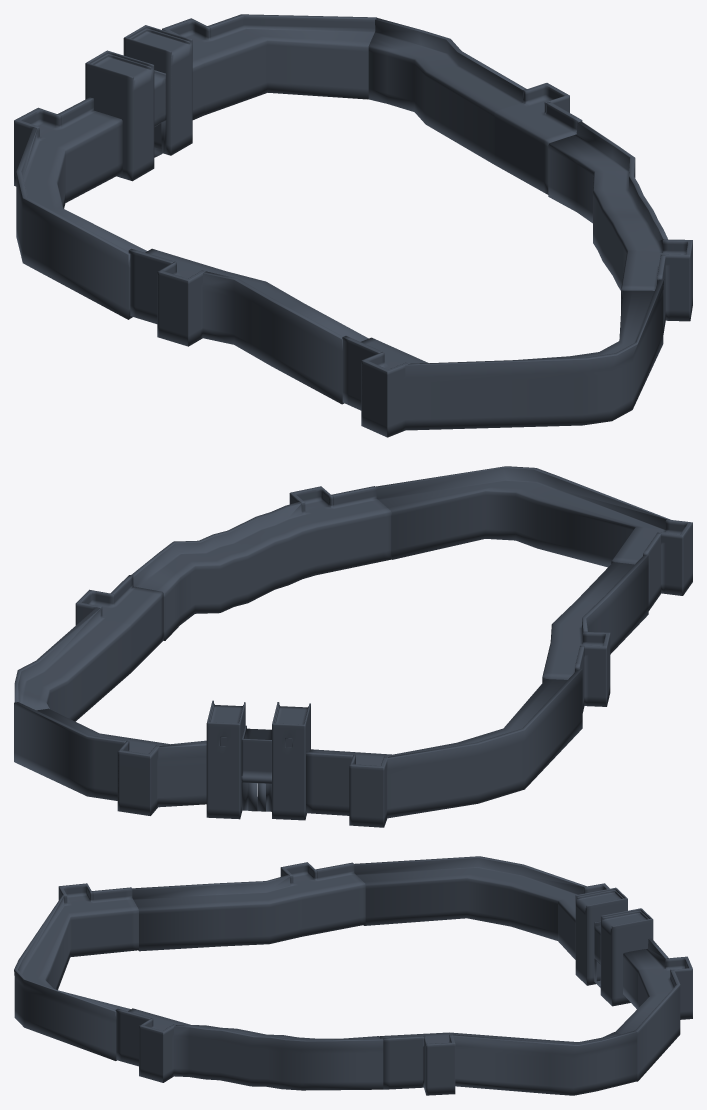
Rendered from wall.obj.
3 views of the same model, one above another, from view 1: azimuth 30°, elevation 25°; view 2: azimuth 150°, elevation 25°; view 3: azimuth 270°, elevation 25° (orthographic). The views are drawn at different scales.
Visible parts, largest first — view 1: Cube.039_Cube.010, Cube.041_Cube.020, Cube.034_Cube.016, Cube.038_Cube.005, Cube.042_Cube.043, Cube.040_Cube.011, Cube.003_Cube.004, Cube.002, Cube.001; view 2: Cube.039_Cube.010, Cube.034_Cube.016, Cube.040_Cube.011, Cube.042_Cube.043, Cube.041_Cube.020, Cube.038_Cube.005, Cube.002, Cube.003_Cube.004, Cube.001; view 3: Cube.038_Cube.005, Cube.040_Cube.011, Cube.034_Cube.016, Cube.041_Cube.020, Cube.039_Cube.010, Cube.042_Cube.043, Cube.002, Cube.003_Cube.004.
Part boxes in pixels (x1,y1,x2,y2): Cube.039_Cube.010: (342, 279, 664, 437); Cube.041_Cube.020: (368, 18, 582, 194); Cube.034_Cube.016: (14, 97, 147, 319); Cube.038_Cube.005: (128, 248, 368, 404); Cube.042_Cube.043: (162, 14, 376, 119); Cube.040_Cube.011: (548, 121, 692, 334); Cube.003_Cube.004: (85, 50, 154, 181); Cube.002: (123, 25, 192, 155); Cube.001: (154, 70, 166, 157); Cube.039_Cube.010: (376, 466, 692, 610); Cube.034_Cube.016: (306, 669, 582, 827); Cube.040_Cube.011: (131, 486, 391, 640); Cube.042_Cube.043: (14, 702, 206, 815); Cube.041_Cube.020: (14, 575, 163, 721); Cube.038_Cube.005: (542, 555, 648, 712); Cube.002: (206, 700, 245, 819); Cube.003_Cube.004: (272, 702, 310, 820); Cube.001: (241, 725, 271, 811); Cube.038_Cube.005: (132, 862, 365, 951); Cube.040_Cube.011: (115, 1008, 383, 1090); Cube.034_Cube.016: (354, 856, 609, 959); Cube.041_Cube.020: (379, 1030, 637, 1095); Cube.039_Cube.010: (14, 883, 138, 1060); Cube.042_Cube.043: (615, 938, 692, 1081); Cube.002: (600, 908, 653, 1006); Cube.003_Cube.004: (575, 887, 627, 985).
Bounding box in the file's own units: 250 × 49.3 × 374.
